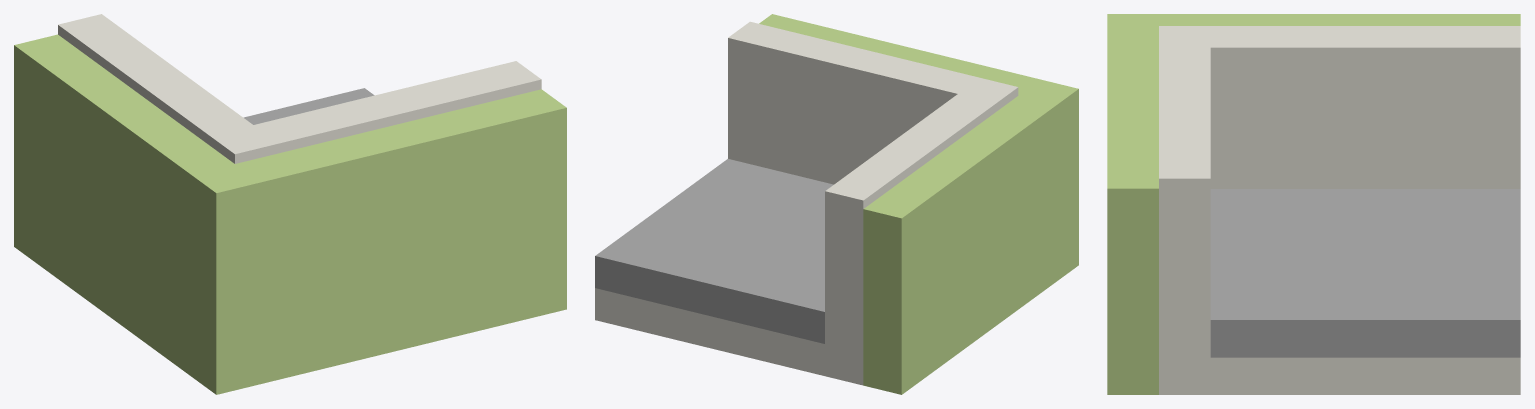
Rendered from road-tile-045.glb.
The picture shows the model from 3 angles, left to right: view 1: azimuth 30°, elevation 25°; view 2: azimuth 150°, elevation 25°; view 3: azimuth 270°, elevation 25°; orthographic projection. The views are drawn at different scales.
Parts seen in each view (by area): view 1: roadTile_045_Grass, roadTile_045_Stone, roadTile_045_Asphalt; view 2: roadTile_045_Grass, roadTile_045_Stone, roadTile_045_Asphalt; view 3: roadTile_045_Stone, roadTile_045_Asphalt, roadTile_045_Grass.
Part boxes in pixels (left/top/right/bottom): roadTile_045_Grass: left=14, top=34, right=566, bottom=394; roadTile_045_Stone: left=58, top=14, right=541, bottom=163; roadTile_045_Asphalt: left=243, top=88, right=374, bottom=124; roadTile_045_Grass: left=759, top=14, right=1078, bottom=394; roadTile_045_Stone: left=595, top=21, right=1018, bottom=385; roadTile_045_Asphalt: left=595, top=159, right=833, bottom=343; roadTile_045_Stone: left=1159, top=26, right=1520, bottom=394; roadTile_045_Asphalt: left=1210, top=189, right=1520, bottom=357; roadTile_045_Grass: left=1107, top=14, right=1520, bottom=394.
Bounding box in the file's own units: 3 × 1.73 × 3.
